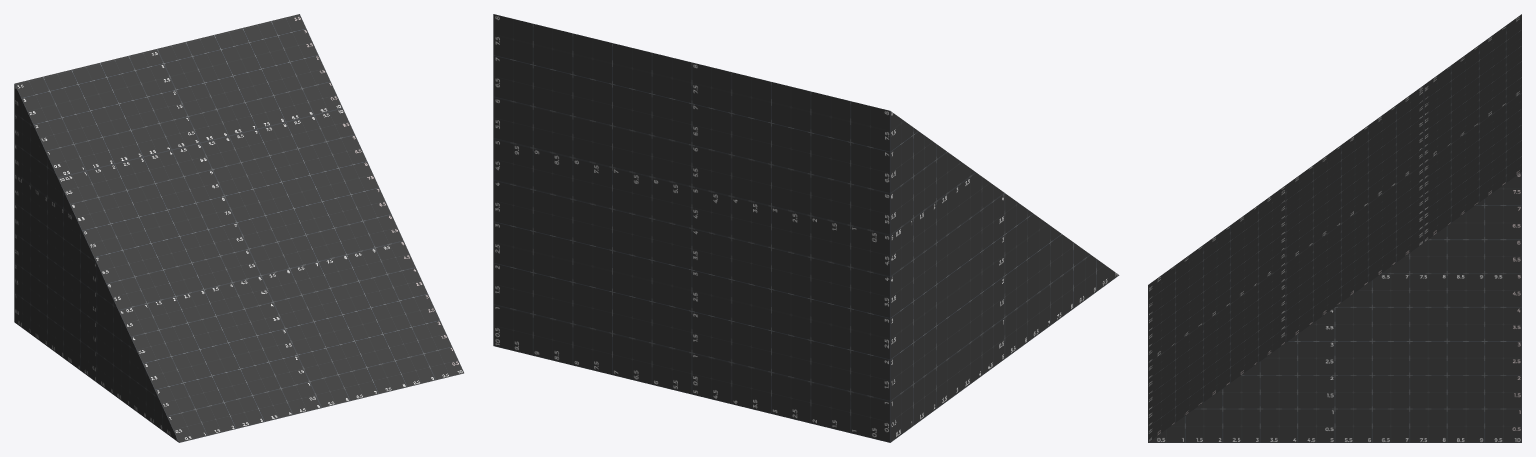
Rendered from WedgeFloor_08.fbx.
3 views of the same model, side by side, from view 1: azimuth 30°, elevation 25°; view 2: azimuth 150°, elevation 25°; view 3: azimuth 270°, elevation 25° (orthographic). The views are drawn at different scales.
Parts seen in each view (by area): view 1: WedgeFloor_08; view 2: WedgeFloor_08; view 3: WedgeFloor_08.
Boxes of the visible parts, bbox=[...] form: WedgeFloor_08: bbox=[14, 14, 463, 442]; WedgeFloor_08: bbox=[493, 14, 1119, 442]; WedgeFloor_08: bbox=[1148, 14, 1521, 442].
Size of the model in its own units: 10 by 8 by 10.
